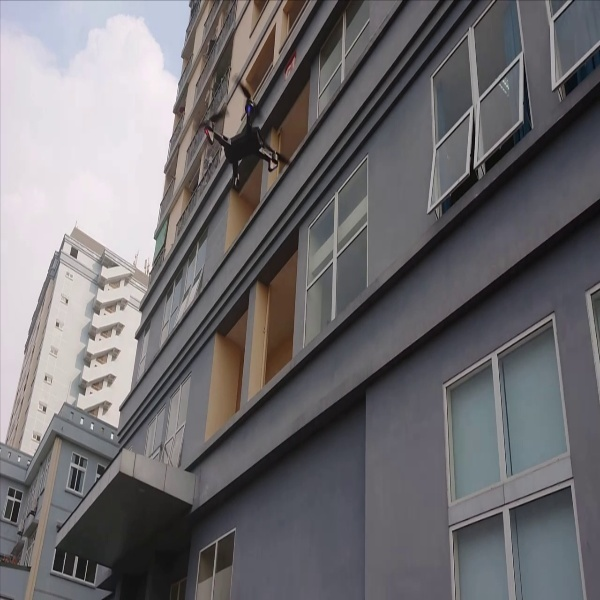drone: (196, 81, 293, 193)
